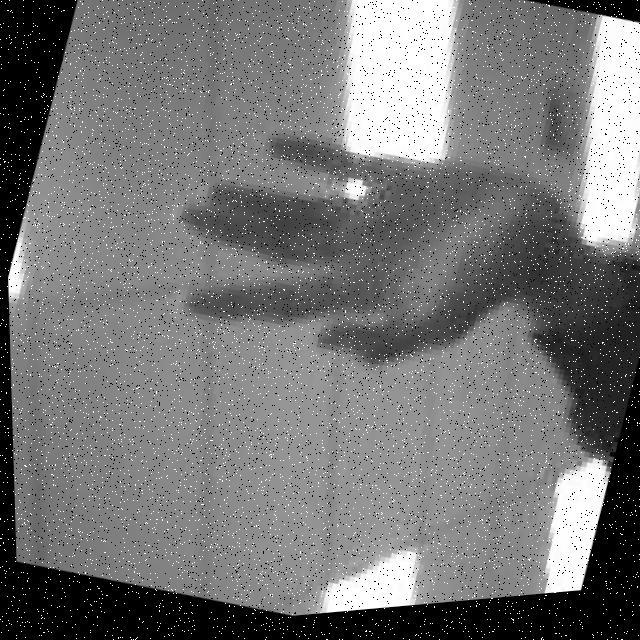no-gloves: (136, 84, 570, 435)
